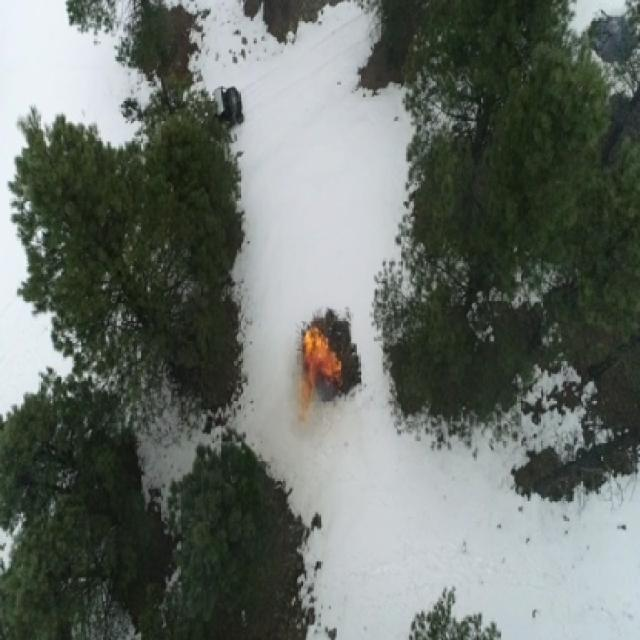Fire: (295, 323, 343, 419)
